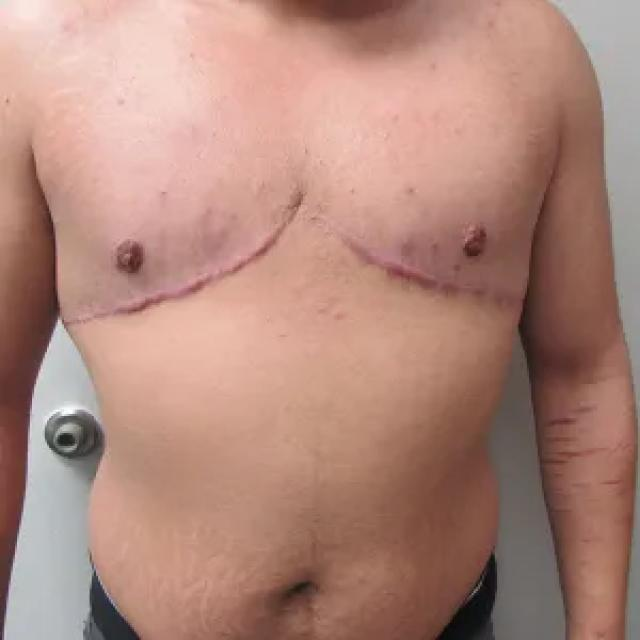Seno herido: (46, 119, 306, 350), (309, 120, 545, 334)
